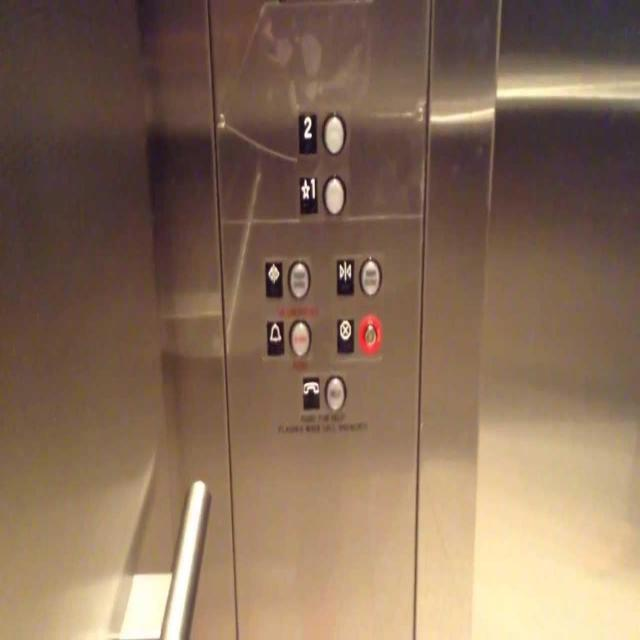2: (297, 109, 317, 152)
alarm: (265, 316, 285, 358)
call: (301, 373, 320, 410)
close: (335, 255, 355, 296)
empty: (322, 173, 346, 215), (322, 112, 345, 154)
keyhole: (358, 313, 382, 355)
open: (265, 259, 283, 297)
s1: (298, 173, 318, 215)
stop: (335, 314, 355, 354)
text_blur: (286, 256, 310, 300), (358, 256, 382, 297), (288, 317, 312, 358), (324, 374, 346, 411)
